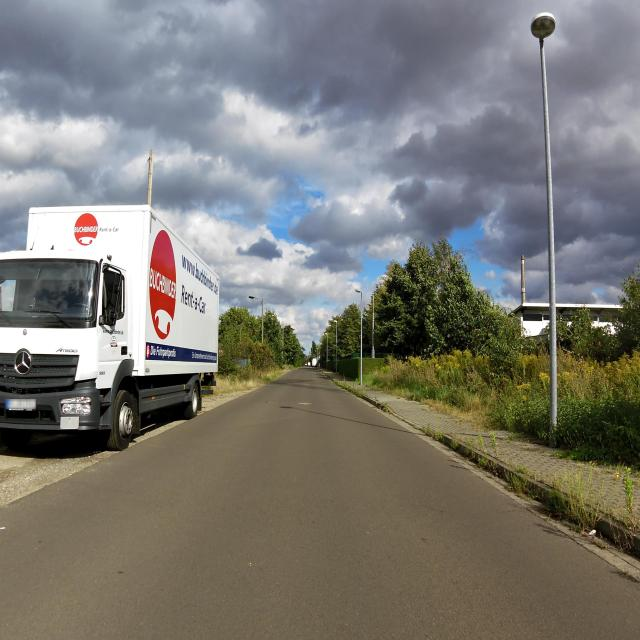Good: (295, 399, 315, 409)
